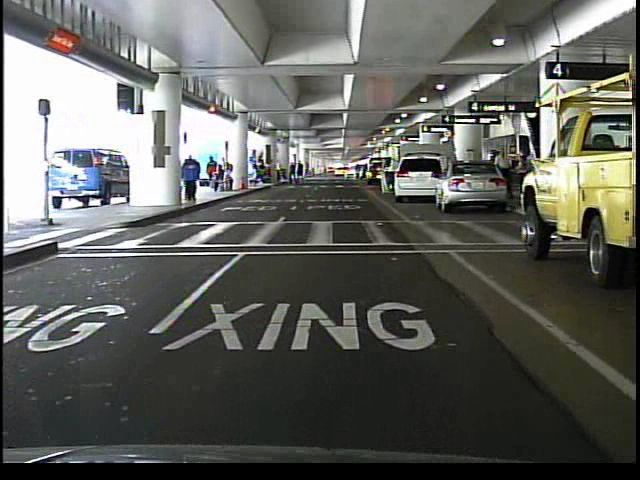person: (180, 152, 204, 205)
